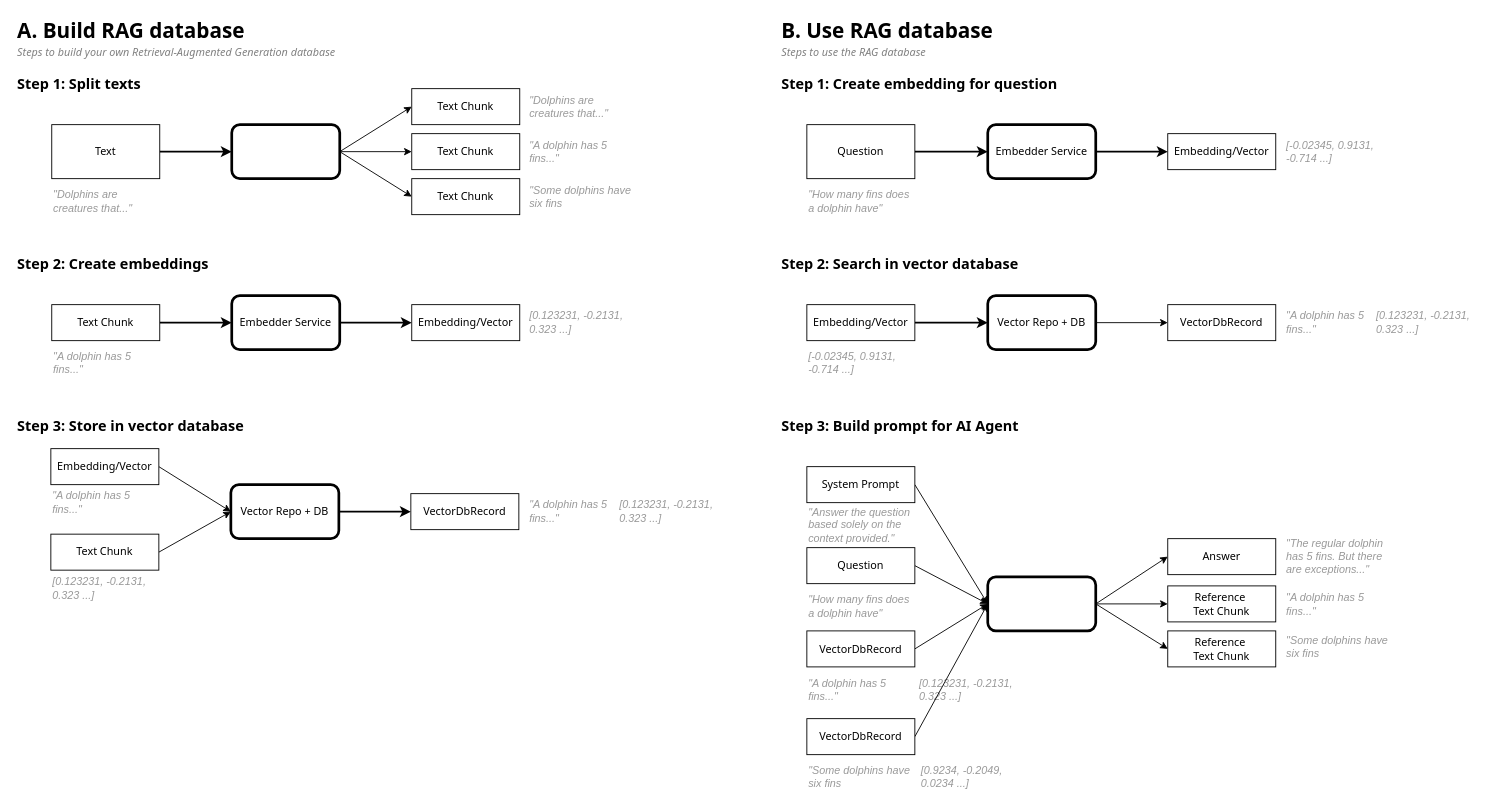
Image size: 1498x806. Some labels were removed from this diagram. Each missing label, with the centre of its shape:
ChatService: (x=1041, y=603)
Chunker Service: (x=285, y=151)
